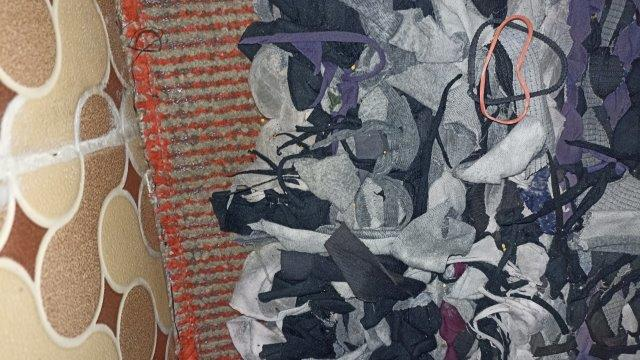karet: (469, 16, 568, 124)
